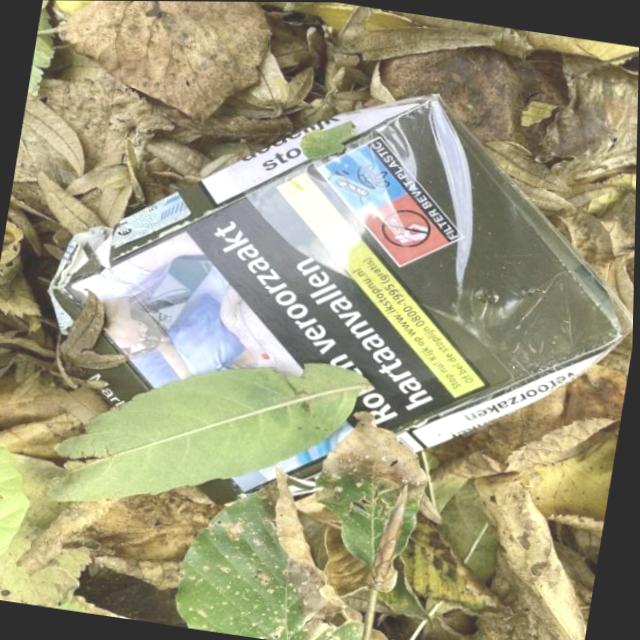Paper: (12, 35, 639, 565)
